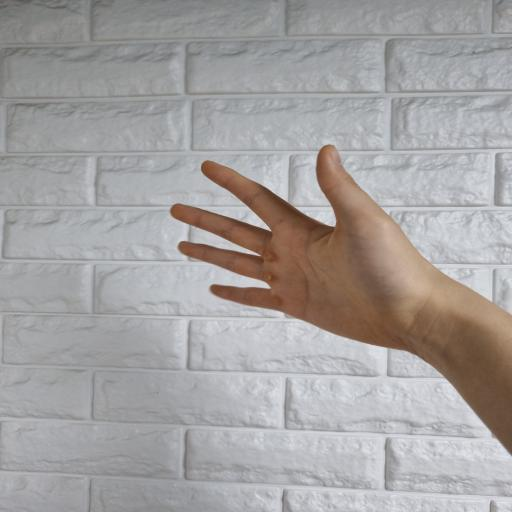Paper: (170, 145, 433, 351)
